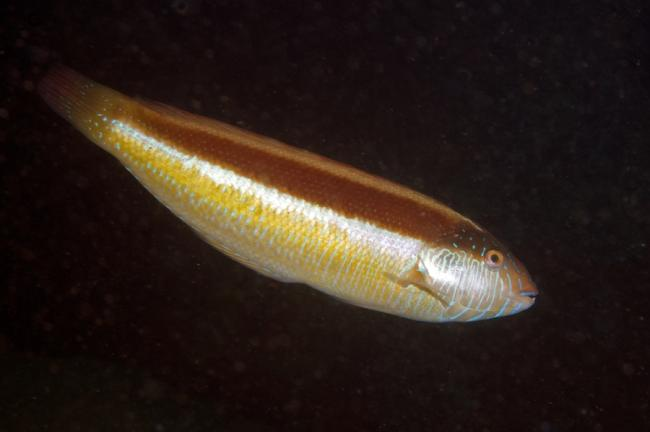fish: (36, 61, 540, 323)
